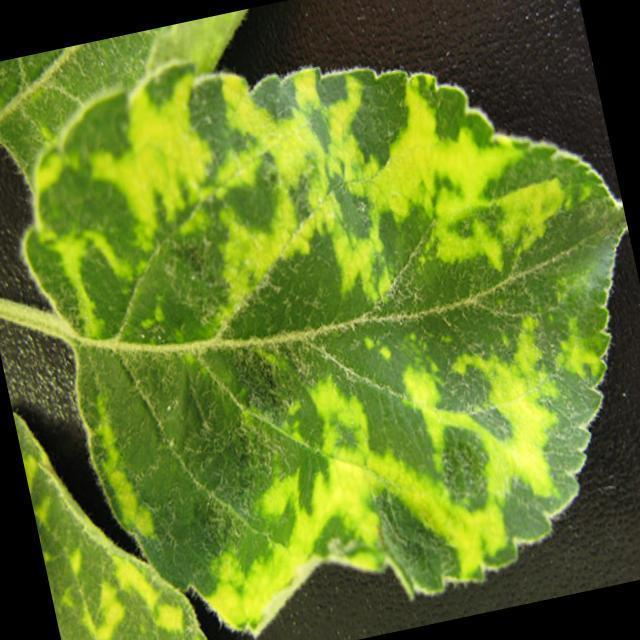Mosaic Virus: (48, 45, 640, 631), (15, 394, 215, 640)
